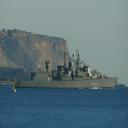Fragata: (14, 43, 120, 92)
